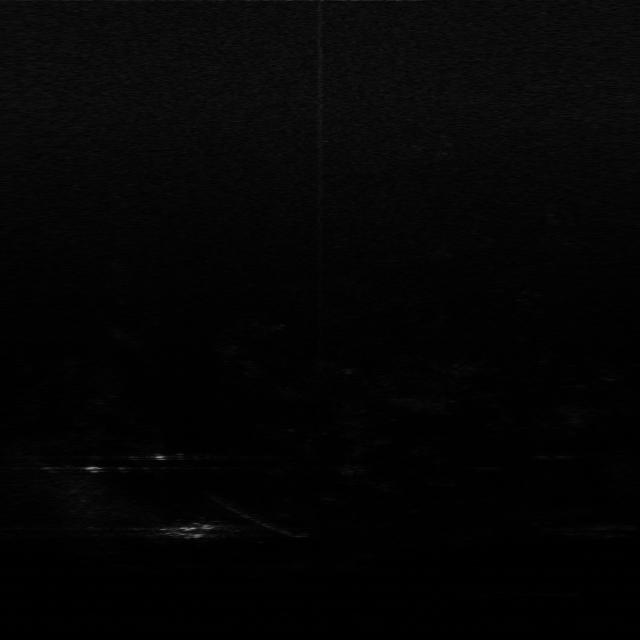rov: (161, 520, 218, 542)
